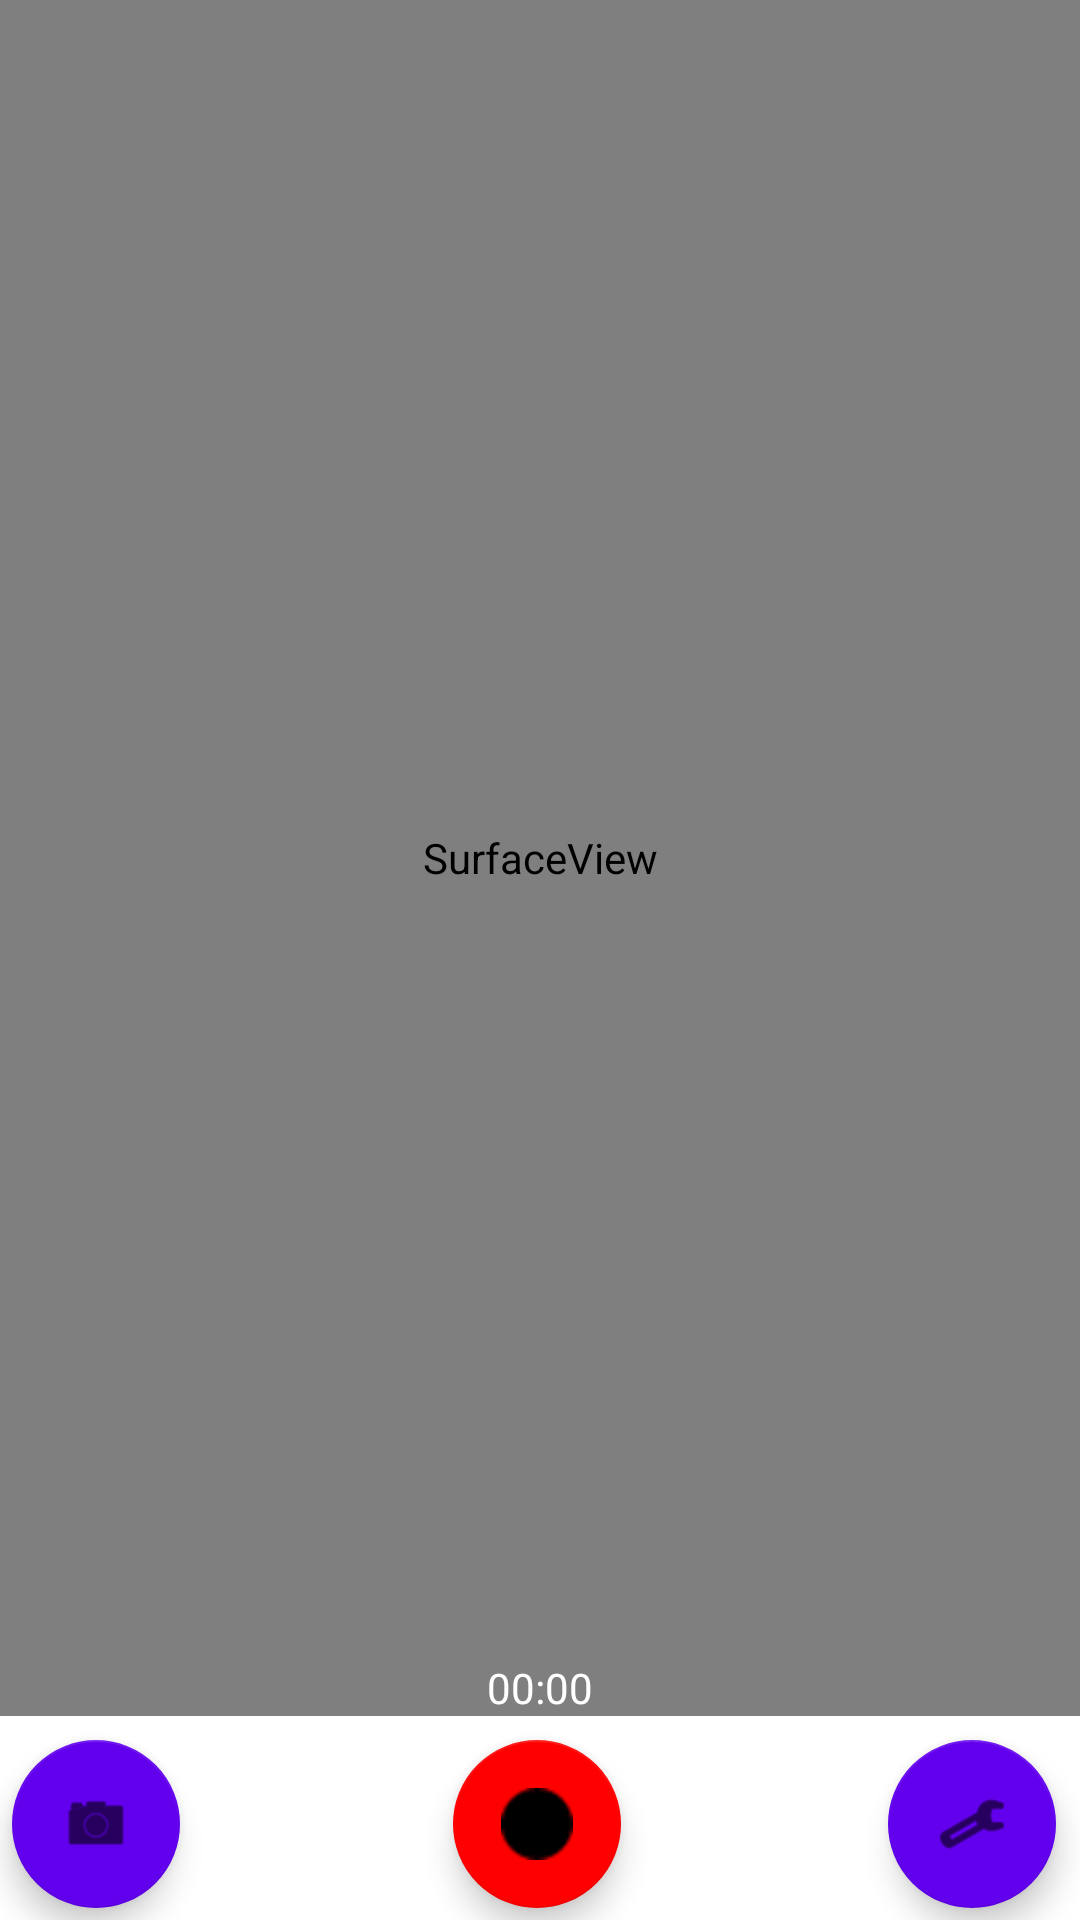

Icons on this 1080 x 1920 Android screen, each with the point to tap as (x=x, y=y):
camera: (x=96, y=1824)
preferences: (x=972, y=1824)
